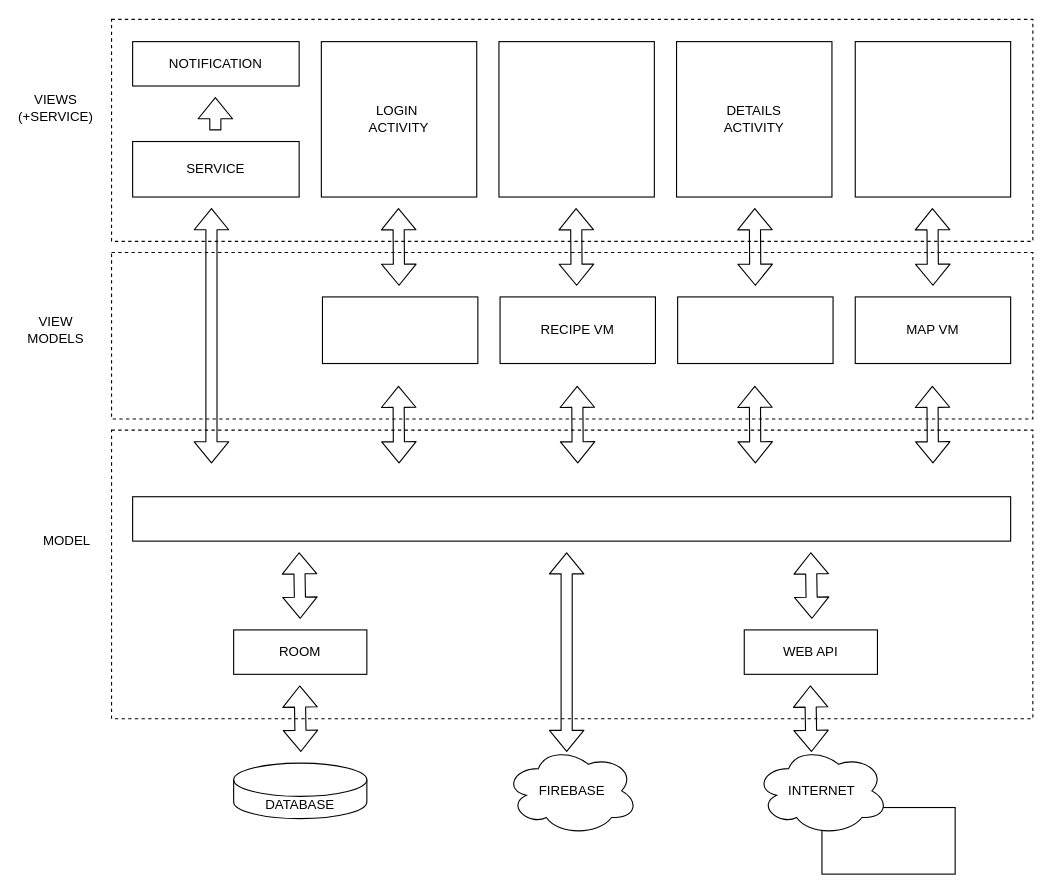
Some shapes in this 1052 by 894 pixel diagram are drawn without their labels. The centre of each missing label's shape, as x and y in pixels:
DETAILS VM: pixel 755 330
LOGIN VM: pixel 399 330
MAP ACTIVITY: pixel 932 119
RECIPE ACTIVITY: pixel 576 119
REPOSITORY: pixel 571 518
WEB SERVER: pixel 888 840
